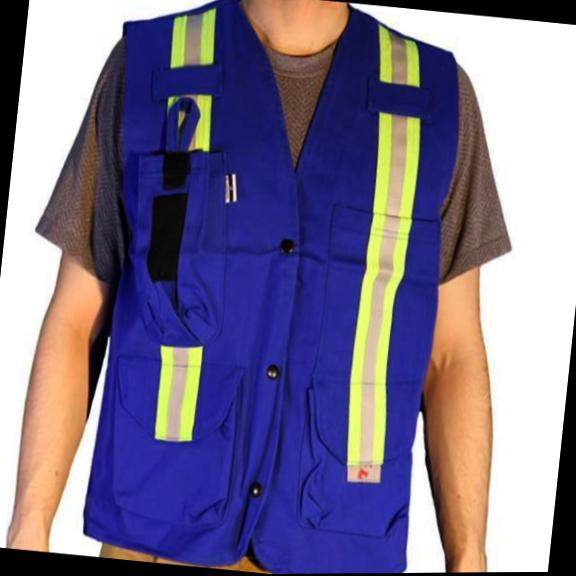safety_vest: (66, 0, 473, 576)
